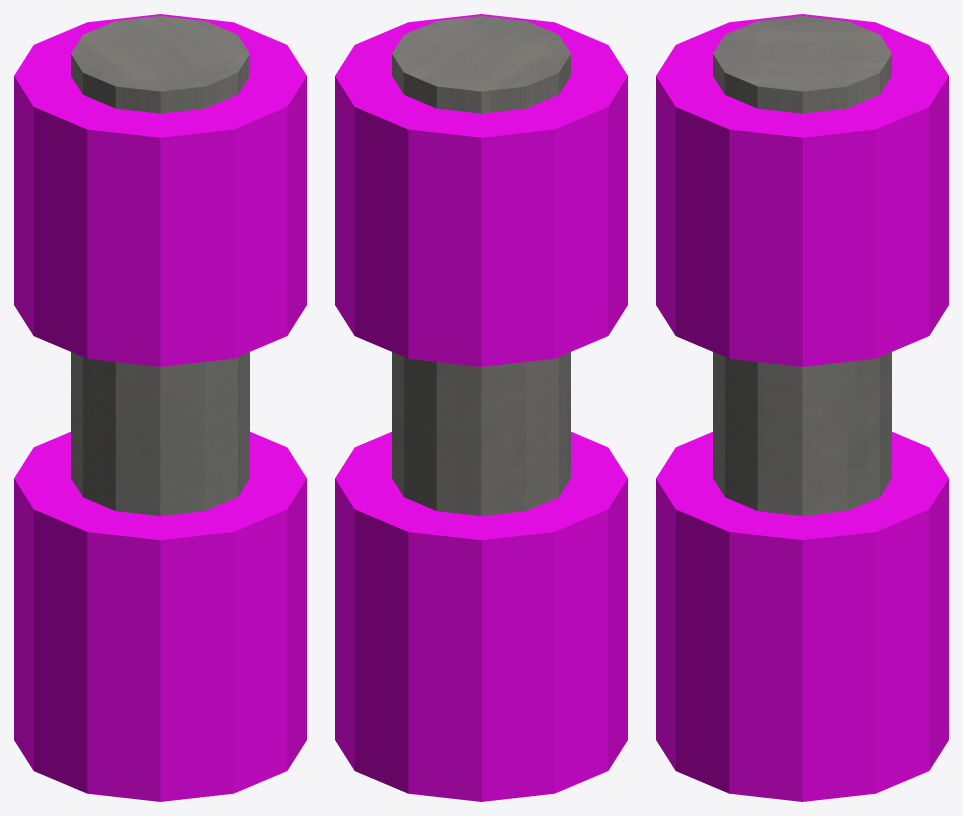
Rendered from fuse.fbx.
3 views of the same model, side by side, from view 1: azimuth 30°, elevation 25°; view 2: azimuth 150°, elevation 25°; view 3: azimuth 270°, elevation 25° (orthographic).
Visible parts, largest first — view 1: fuse; view 2: fuse; view 3: fuse.
Boxes of the visible parts, x1,y1,x2,y2 form: fuse: (14, 14, 306, 801); fuse: (335, 14, 627, 801); fuse: (656, 14, 948, 801).
Size of the model in its own units: 19.21 by 51.27 by 19.21.
2 materials, 1 textured.
